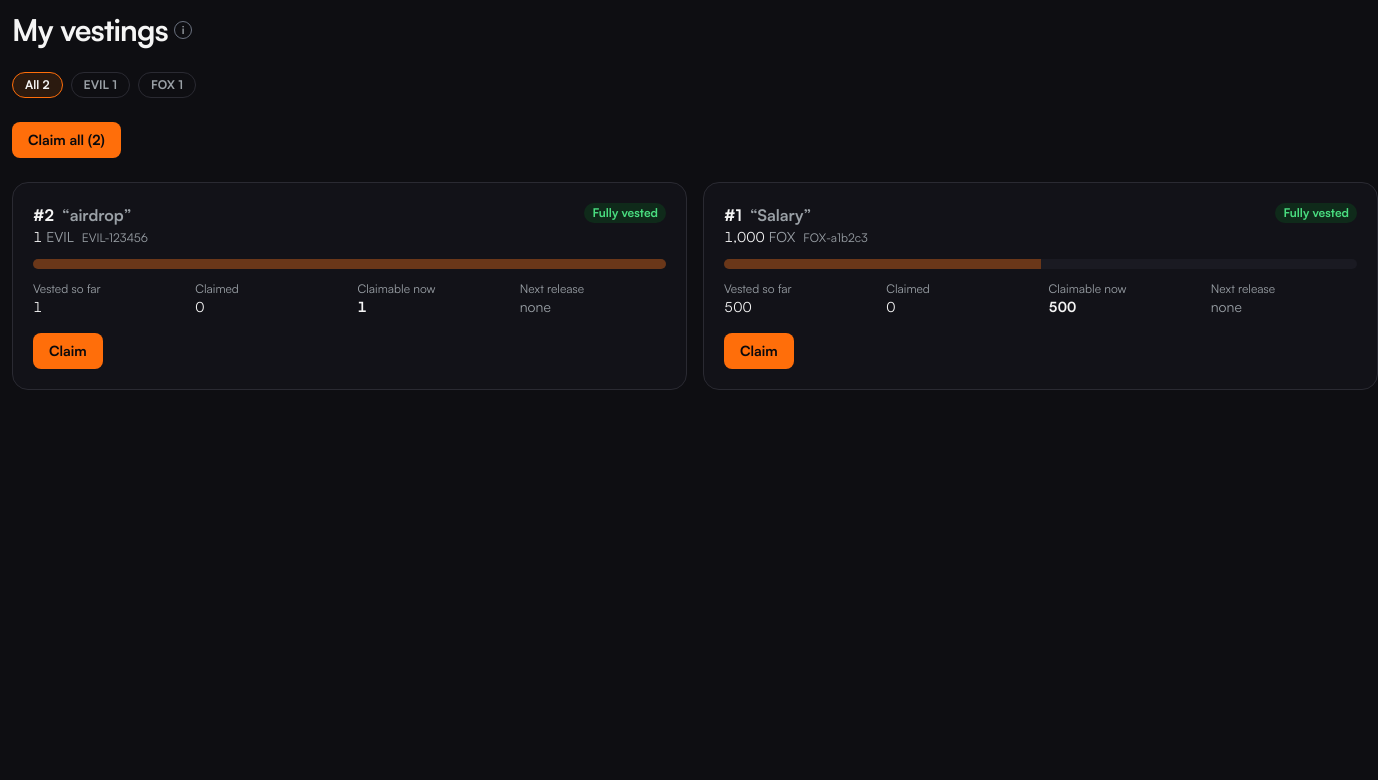
Test: red team: Claim all with one hostile key among the claimable ones › names the vesting that blocks it, or offers the rest
What coordinates should you click on to do the following:
click the button "Claim all (2)"
I would click on:
 (66, 140)
Its box is [12, 122, 121, 158].
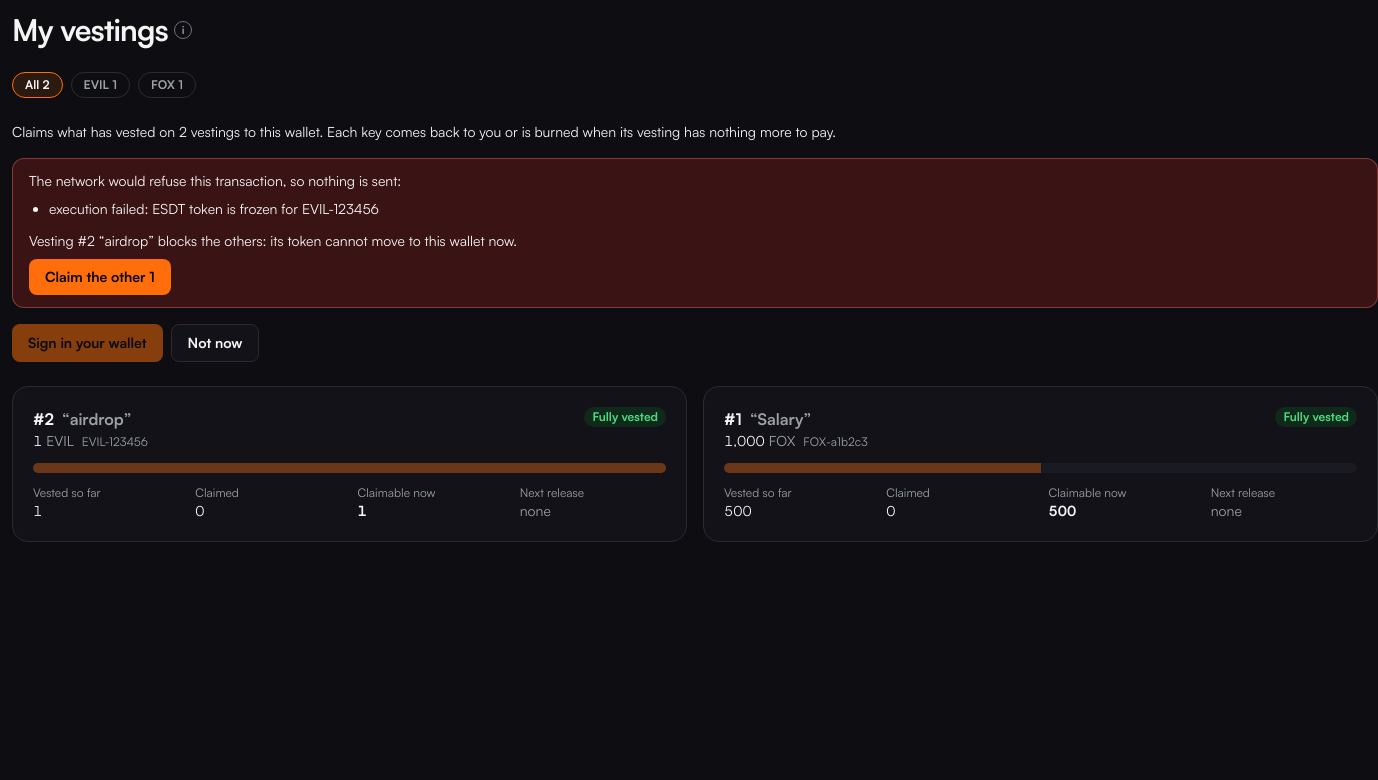
Expected: the text "would refuse" is shown, [29, 172, 186, 189]
